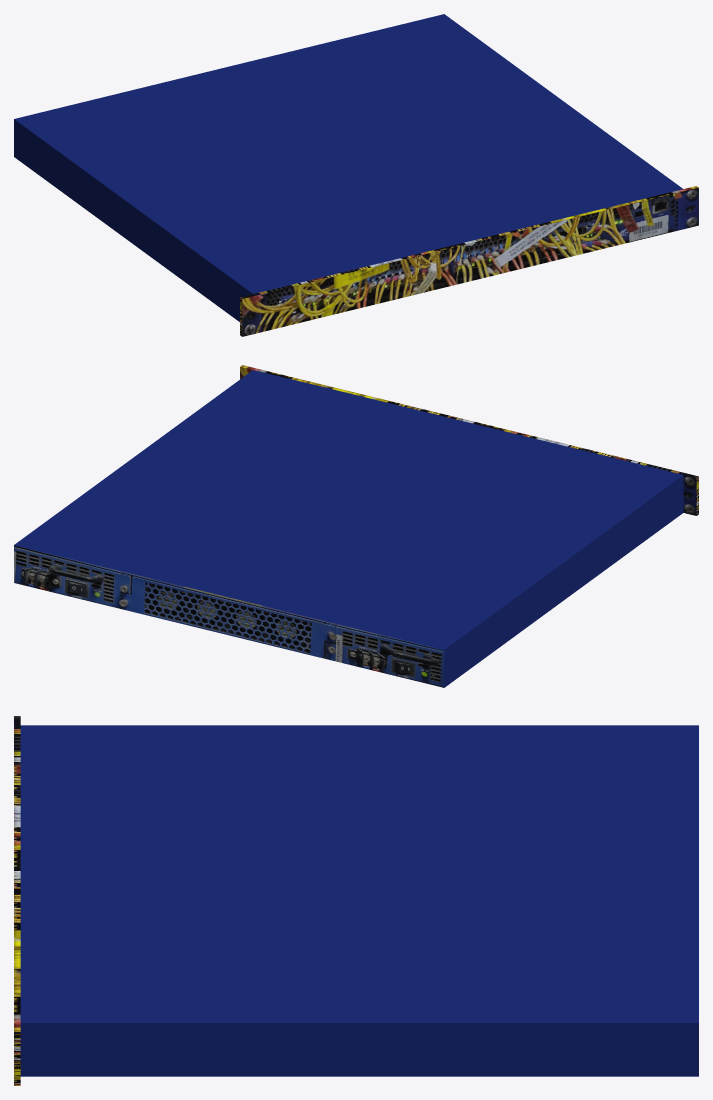
3 views of the same model, one above another, from view 1: azimuth 30°, elevation 25°; view 2: azimuth 150°, elevation 25°; view 3: azimuth 270°, elevation 25° (orthographic). The views are drawn at different scales.
Parts seen in each view (by area): view 1: V6744XG; view 2: V6744XG; view 3: V6744XG.
Boxes of the visible parts, x1,y1,x2,y2 form: V6744XG: (14, 14, 698, 336); V6744XG: (14, 365, 698, 687); V6744XG: (14, 716, 698, 1085).
Size of the model in its own units: 560 by 44.45 by 513.
Materials: 3 (2 with a texture image).
